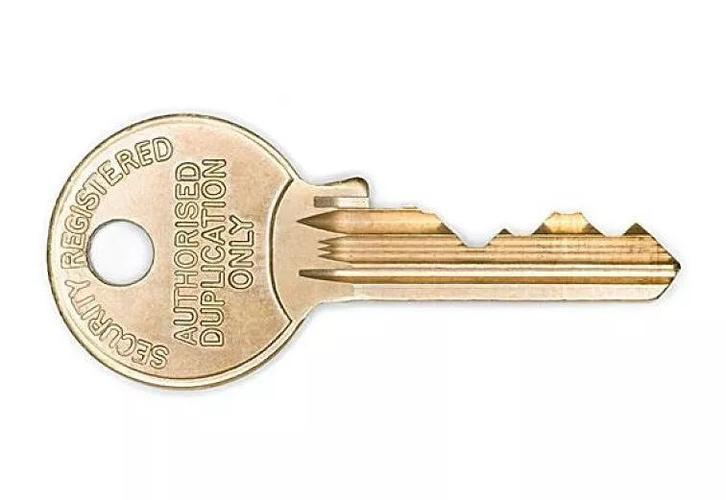key: (26, 92, 697, 406)
